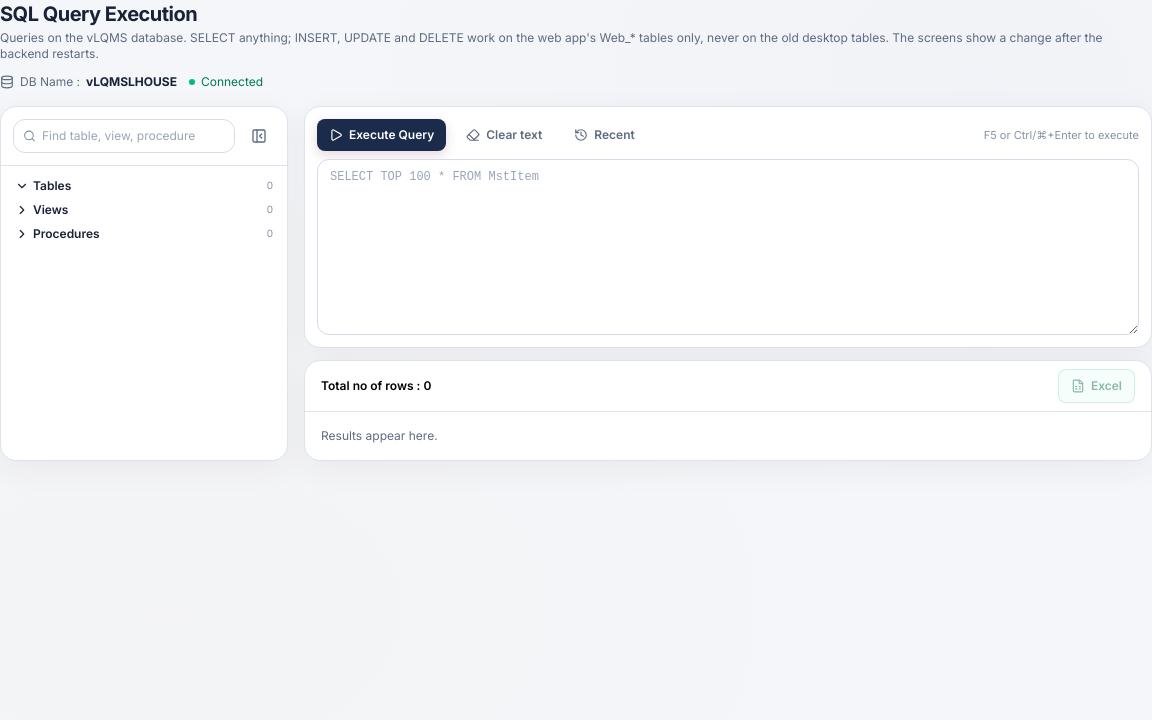
it: SqlQueryExecution › shows the SQL Server error under the query box
This screenshot has width=1152, height=720.
Expected: the text "vLQMSLHOUSE" is shown, 86,74 -> 177,90
Step 1. Type "SELECT BOOM FROM MstItem" into the text box named "SQL query" → (728, 247), box 317,159 -> 1139,335
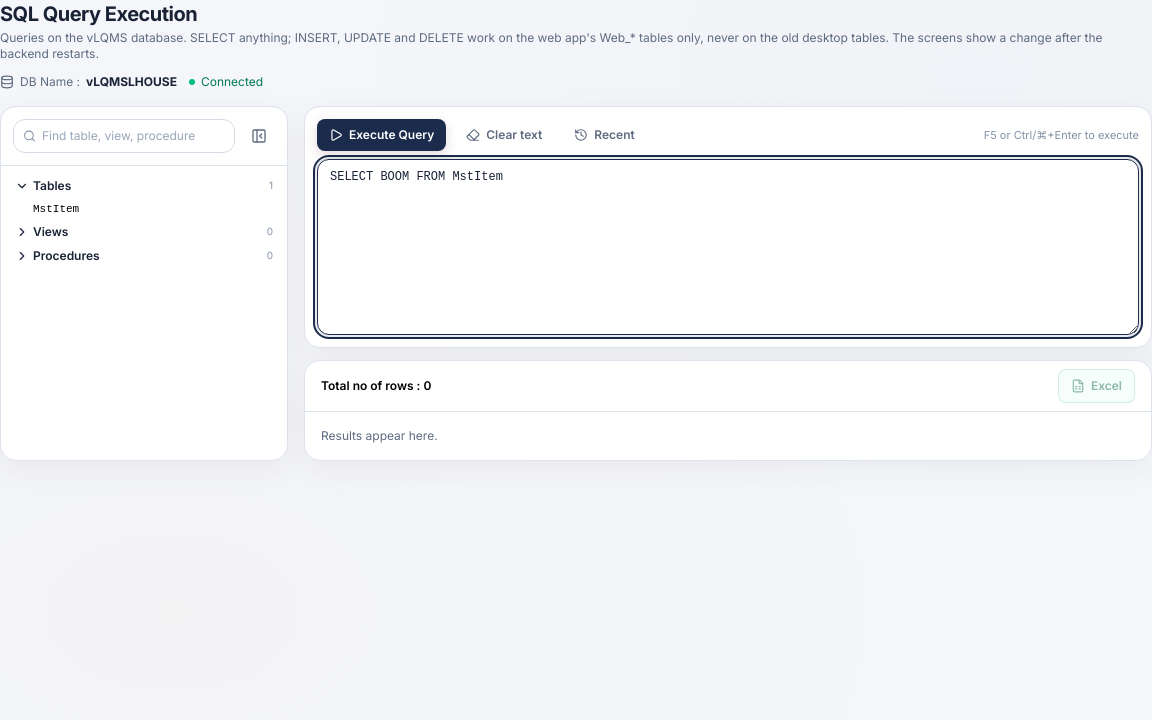
Step 2. Click the button "Execute Query" → (382, 135), box 317,119 -> 446,151
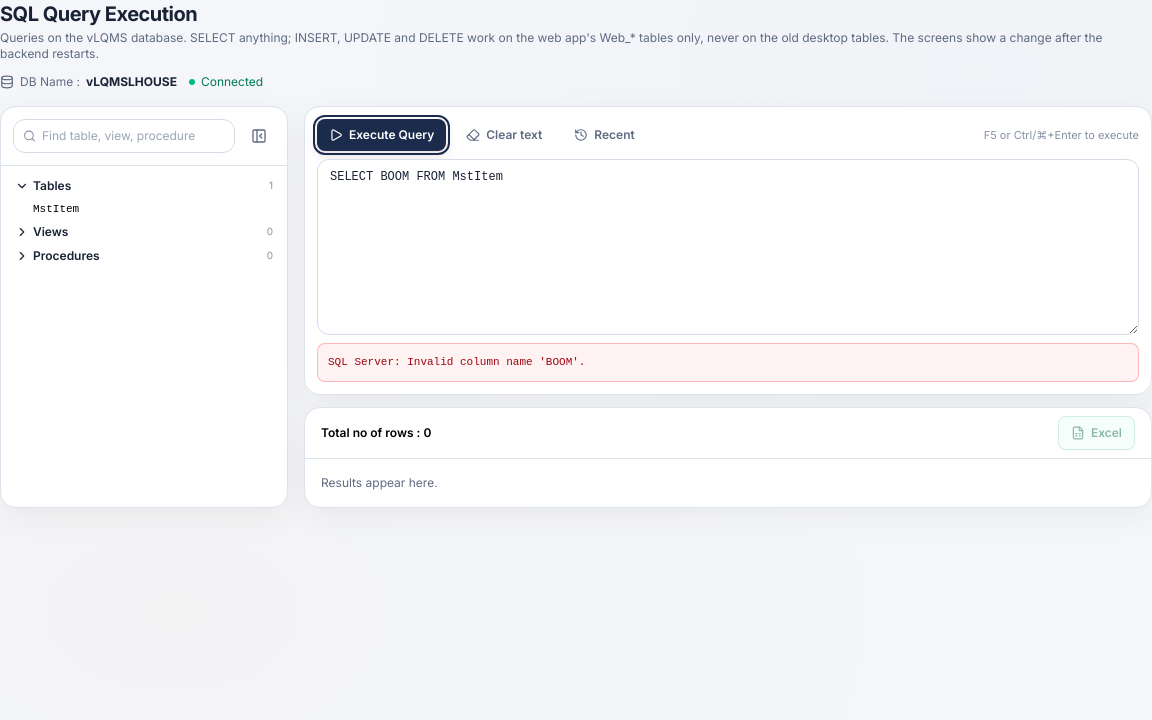
Expected: the message shows "Invalid column name 'BOOM'.", 328,356 -> 586,368
